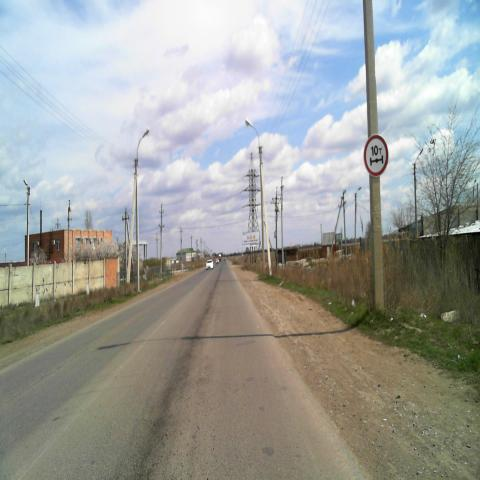3_12: (362, 132, 390, 180)
